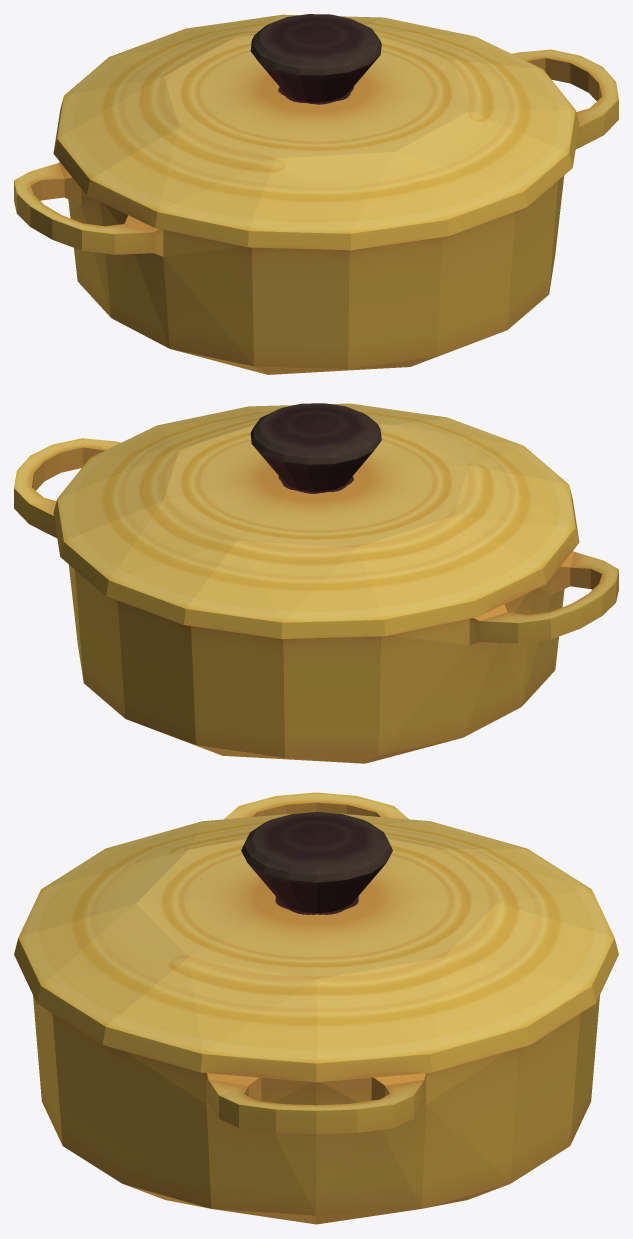
Rendered from P_DrainBasket_001_S1_M01.obj.
The picture shows the model from 3 angles, top to bottom: view 1: azimuth 30°, elevation 25°; view 2: azimuth 150°, elevation 25°; view 3: azimuth 270°, elevation 25°; orthographic projection. The views are drawn at different scales.
Bounding box in the file's own units: 0.674 × 0.2995 × 0.541.
Materials: 1 (1 with a texture image).
